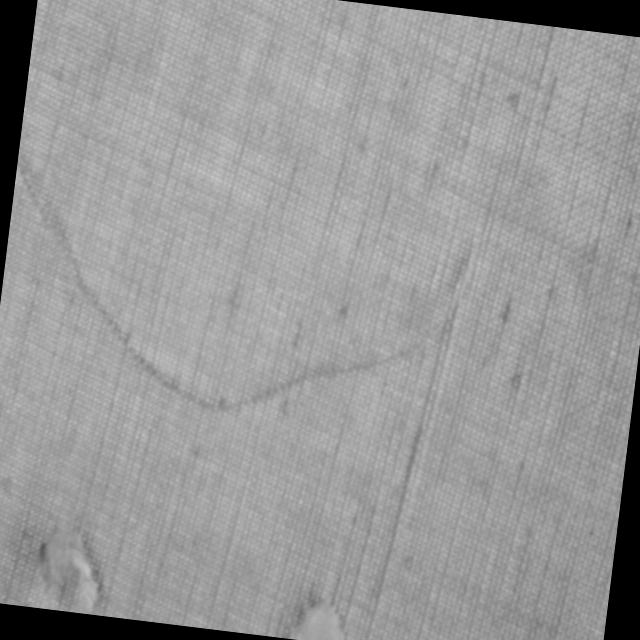objects: (0, 131, 479, 448), (31, 520, 110, 614), (283, 590, 355, 640)
